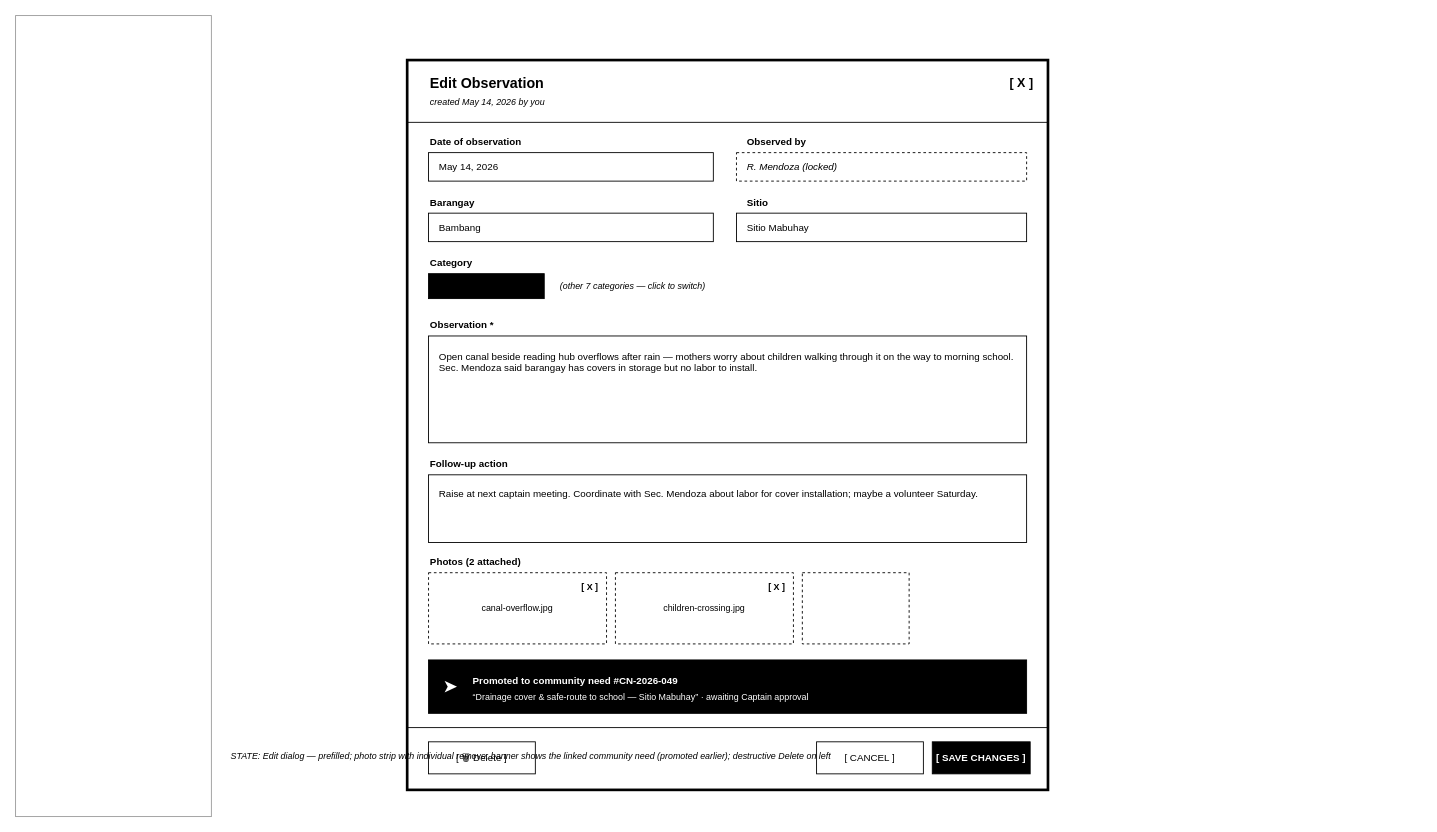
This 1437x832 diagram has some shape labels left out. The shapes that lost their labels are listed below. From the top down, each one's centre as x and y in pixels, then its label:
At [486,286]: "Infrastructure".
At [113,416]: "AGAPE".
At [855,608]: "[ + Add more ]".
